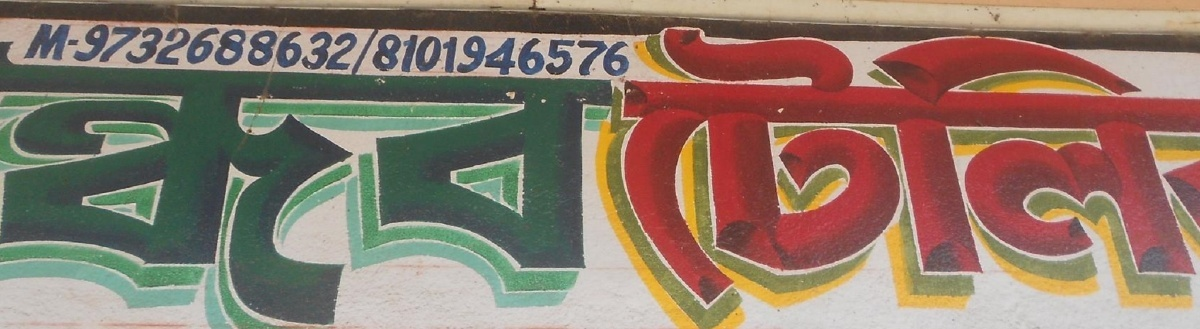text: (529, 21, 544, 327), (545, 21, 560, 327), (561, 21, 576, 327), (577, 21, 592, 327), (593, 21, 608, 327), (609, 21, 624, 327), (625, 21, 640, 327), (641, 21, 656, 327), (657, 21, 672, 327), (673, 21, 688, 327), (689, 21, 704, 327), (705, 21, 720, 327), (721, 21, 736, 327), (737, 21, 752, 327), (753, 21, 768, 327), (769, 21, 784, 327), (785, 21, 800, 327), (801, 21, 816, 327), (817, 21, 832, 327), (833, 21, 848, 327), (849, 21, 864, 327), (865, 21, 880, 327), (881, 21, 896, 327), (897, 21, 912, 327), (913, 21, 928, 327), (929, 21, 944, 327), (945, 21, 960, 327), (961, 21, 976, 327), (977, 21, 992, 327), (993, 21, 1008, 327), (1009, 21, 1024, 327), (1025, 21, 1040, 327), (1041, 21, 1056, 327), (1057, 21, 1072, 327), (1073, 21, 1088, 327), (1089, 21, 1104, 327), (1105, 21, 1120, 327), (1121, 21, 1136, 327), (1137, 21, 1152, 327), (1153, 21, 1168, 327), (1169, 21, 1184, 327), (1185, 21, 1200, 327), (1, 37, 16, 329), (17, 37, 32, 329), (33, 37, 48, 329), (49, 37, 64, 329), (65, 37, 80, 329), (81, 37, 96, 329), (97, 37, 112, 329), (113, 37, 128, 329), (129, 37, 144, 329), (145, 37, 160, 329), (161, 37, 176, 329), (177, 37, 192, 329), (193, 37, 208, 329), (209, 37, 224, 329), (225, 37, 240, 329), (241, 37, 256, 329), (257, 37, 272, 329), (273, 37, 288, 329), (289, 37, 304, 329), (305, 37, 320, 329), (321, 37, 336, 329), (337, 37, 352, 329), (353, 37, 368, 329), (369, 37, 384, 329), (385, 37, 400, 329), (401, 37, 416, 329), (417, 37, 432, 329), (433, 37, 448, 329), (449, 37, 464, 329), (465, 37, 480, 329), (481, 37, 496, 329), (497, 37, 512, 329), (513, 37, 528, 329), (529, 37, 544, 329), (545, 37, 560, 329), (561, 37, 576, 329), (577, 37, 592, 329), (593, 37, 608, 329), (1185, 47, 1200, 274), (518, 21, 528, 327), (1175, 47, 1184, 274), (609, 37, 615, 329), (49, 18, 64, 80), (65, 18, 80, 80), (81, 18, 96, 80), (97, 18, 112, 80), (113, 18, 128, 80), (129, 18, 144, 80), (145, 18, 160, 80), (161, 18, 176, 80), (177, 18, 192, 80), (193, 18, 208, 80), (209, 18, 224, 80), (225, 18, 240, 80), (241, 18, 256, 80), (257, 18, 272, 80), (273, 18, 288, 80), (289, 18, 304, 80), (305, 18, 320, 80), (321, 18, 336, 80), (337, 18, 352, 80), (353, 18, 368, 80), (369, 18, 384, 80), (385, 18, 400, 80), (401, 18, 416, 80), (417, 18, 432, 80), (433, 18, 448, 80), (449, 18, 464, 80), (465, 18, 480, 80), (481, 18, 496, 80), (497, 18, 512, 80), (513, 18, 528, 80), (529, 18, 544, 80), (545, 18, 560, 80), (561, 18, 576, 80), (577, 18, 592, 80), (593, 18, 608, 80), (609, 18, 624, 80), (36, 18, 48, 80), (625, 18, 632, 80)
